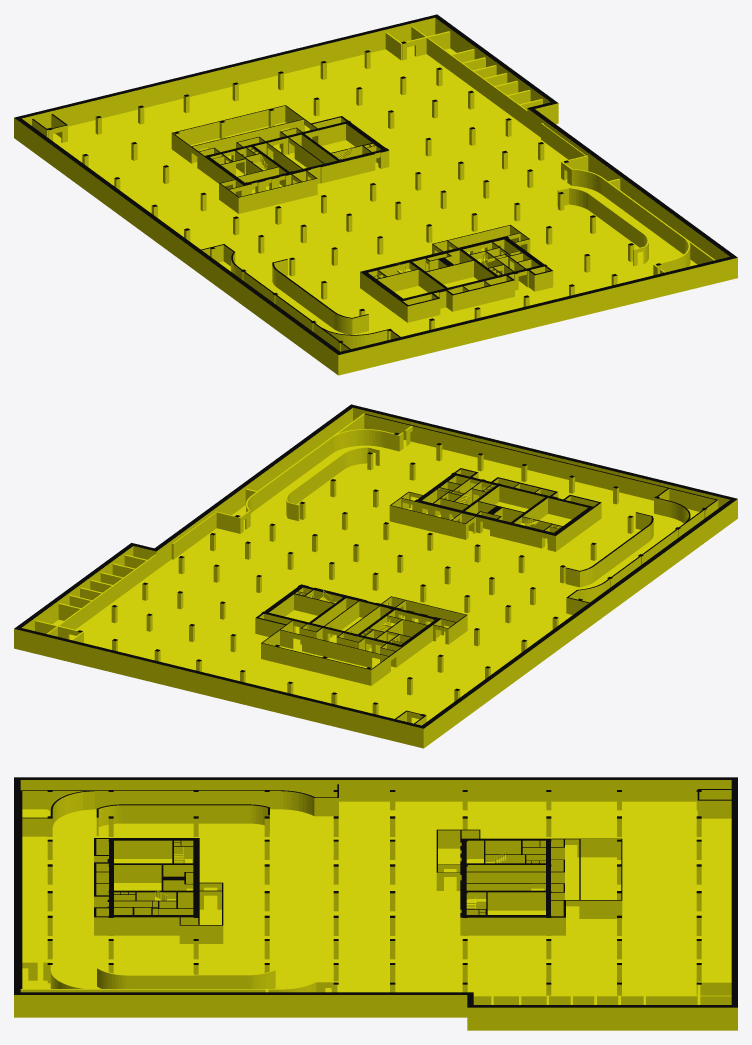
Rendered from sm_hana_building_b5f.glb.
3 views of the same model, one above another, from view 1: azimuth 30°, elevation 25°; view 2: azimuth 150°, elevation 25°; view 3: azimuth 270°, elevation 25° (orthographic). The views are drawn at different scales.
Parts seen in each view (by area): view 1: sm_hana_building_b5f; view 2: sm_hana_building_b5f; view 3: sm_hana_building_b5f.
Boxes of the visible parts, x1,y1,x2,y2 form: sm_hana_building_b5f: (14,14,737,375); sm_hana_building_b5f: (14,404,737,748); sm_hana_building_b5f: (14,777,737,1030).
Bounding box in the file's own units: 86.61 × 4.69 × 115.
4 materials, 2 textured.
